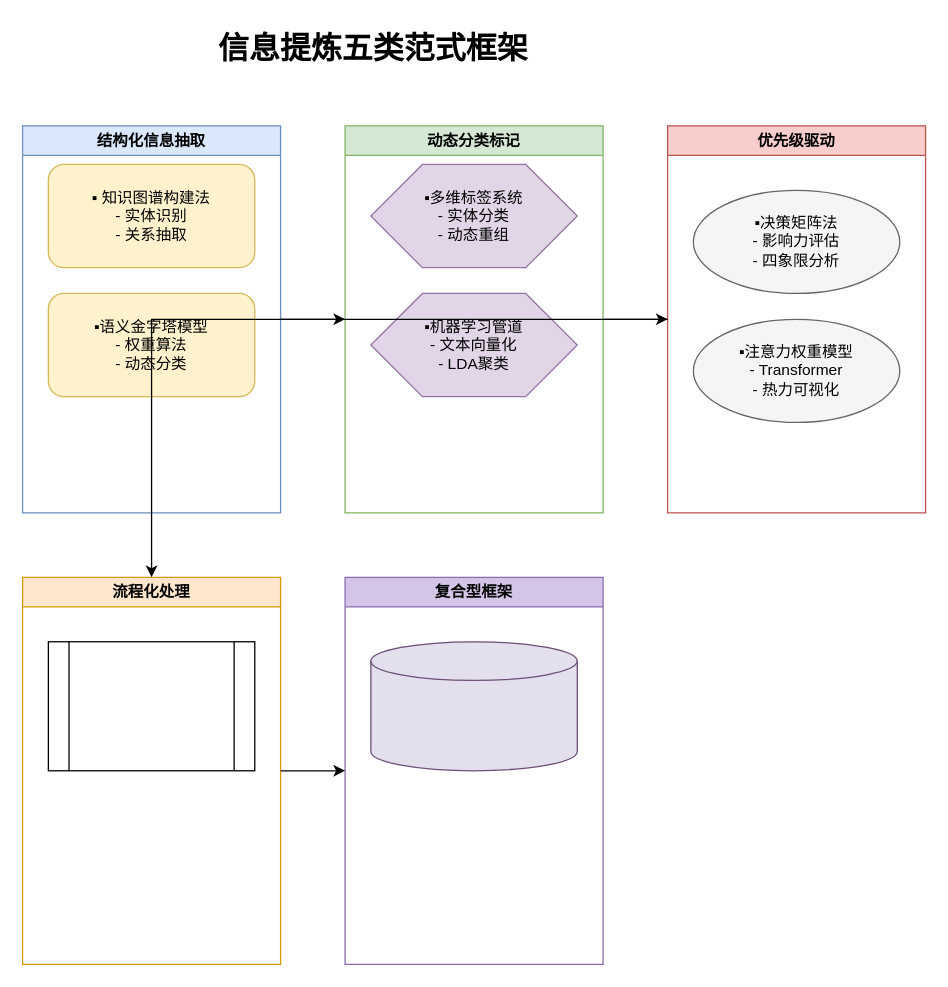
The diagram is 948 pixels wide and 987 high, and some of its shapes have lost their labels. The centre of each missing label's shape, as x and y in pixels:
▪三阶段流水线 - 初级过滤 - 依存分析 - 概念映射: (151,705)
▪洋葱架构 - 核心层 - 逻辑层 - 应用层: (473,705)
